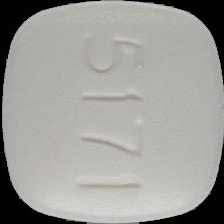33261-820: (0, 0, 224, 224)
